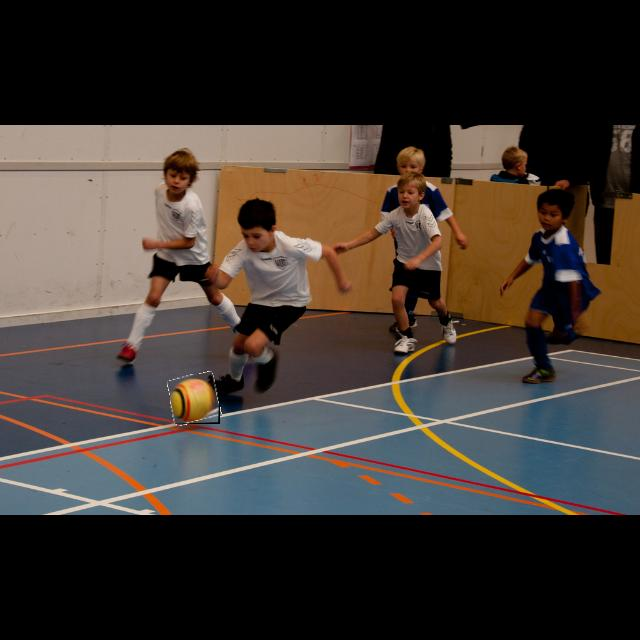Football: (170, 374, 220, 424)
